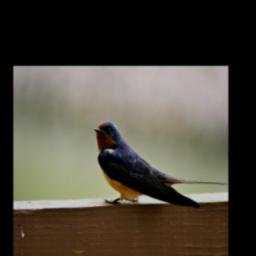Swallow: (93, 119, 228, 209)
